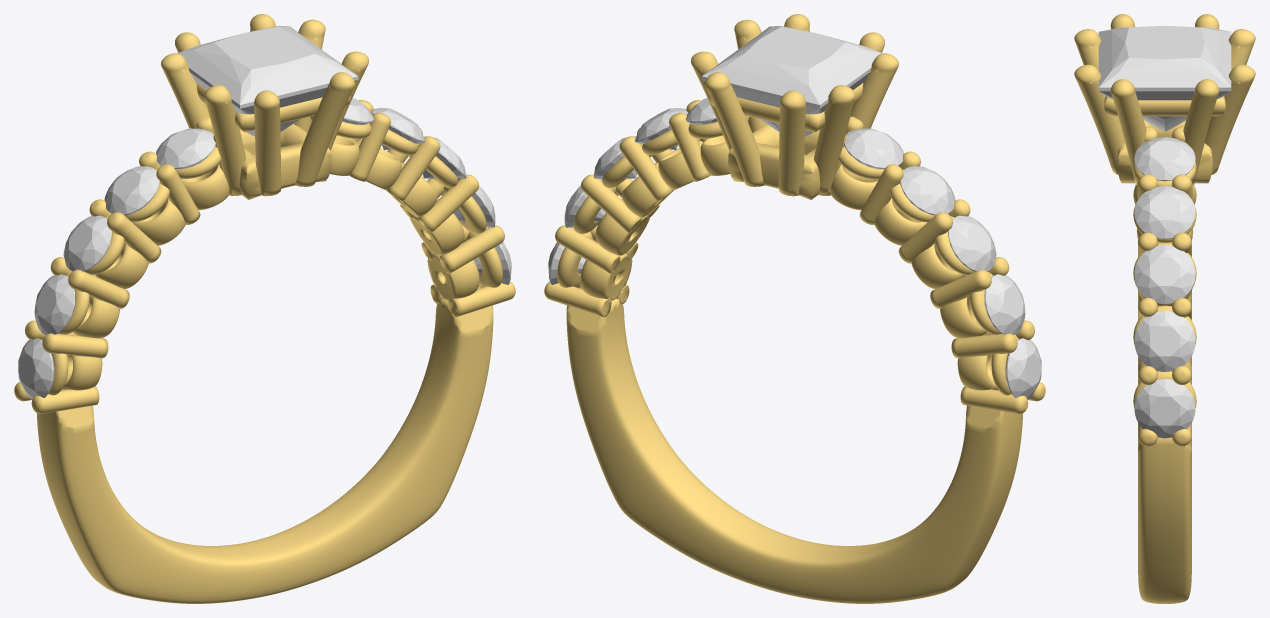
File: diamond-princess-yellowgold-8prong-europeanshank-11stone.glb
3 views of the same model, side by side, from view 1: azimuth 30°, elevation 25°; view 2: azimuth 150°, elevation 25°; view 3: azimuth 270°, elevation 25° (orthographic). The views are drawn at different scales.
Parts seen in each view (by area): view 1: metal, stone, side.002, side.003, side.001, side.004, side, side.006; view 2: metal, stone, side.002, side.003, side.001, side.004, side, side.006; view 3: metal, stone, side.008, side.007, side.009, side.006, side.005.
Boxes of the visible parts, bbox=[...] form: metal: bbox=[14, 14, 515, 603]; stone: bbox=[177, 26, 358, 136]; side.002: bbox=[63, 215, 111, 271]; side.003: bbox=[104, 166, 159, 215]; side.001: bbox=[34, 274, 75, 334]; side.004: bbox=[156, 128, 215, 169]; side: bbox=[18, 338, 54, 399]; side.006: bbox=[371, 107, 425, 150]; metal: bbox=[544, 14, 1045, 603]; stone: bbox=[701, 26, 882, 136]; side.002: bbox=[948, 215, 996, 271]; side.003: bbox=[900, 166, 955, 215]; side.001: bbox=[984, 274, 1025, 334]; side.004: bbox=[844, 128, 903, 169]; side: bbox=[1005, 338, 1041, 399]; side.006: bbox=[634, 108, 688, 150]; metal: bbox=[1074, 14, 1255, 603]; stone: bbox=[1098, 25, 1231, 131]; side.008: bbox=[1134, 311, 1195, 371]; side.007: bbox=[1134, 245, 1195, 303]; side.009: bbox=[1134, 378, 1195, 438]; side.006: bbox=[1134, 185, 1195, 239]; side.005: bbox=[1134, 137, 1195, 181].
Size of the model in its own units: 22.05 by 23.65 by 7.42.
